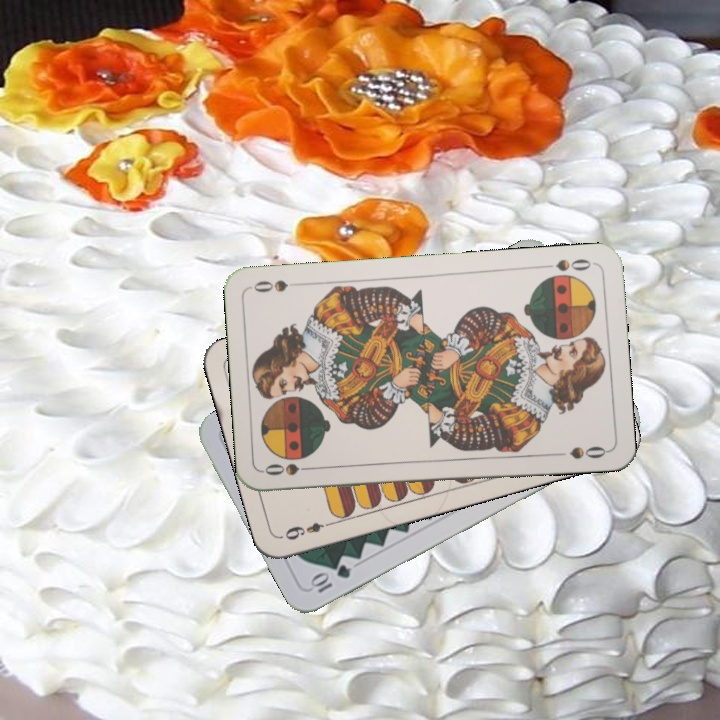E9: (281, 517, 336, 543)
G10: (306, 560, 354, 596)
SO: (261, 459, 320, 478), (538, 255, 597, 274)
